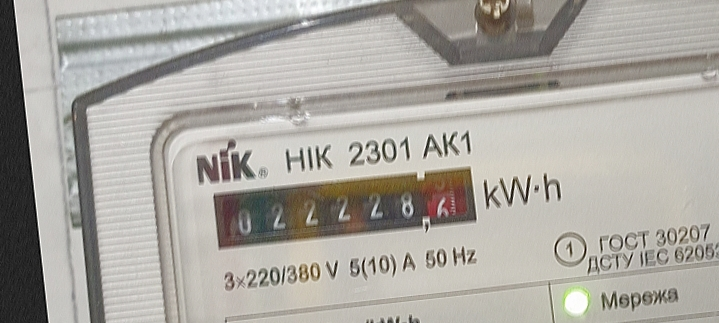0: (236, 206, 254, 236)
2: (268, 200, 290, 232), (367, 191, 387, 221), (334, 193, 354, 222), (302, 197, 321, 227)
5: (432, 172, 449, 193)
6: (434, 195, 452, 217)
8: (399, 190, 417, 219)
screen: (205, 154, 489, 259)
